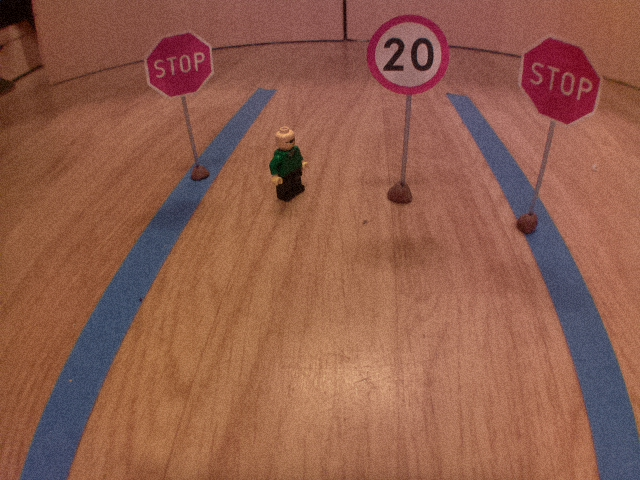LEGO_person: (267, 124, 314, 205)
ogr_20: (362, 11, 453, 98)
stop: (514, 30, 607, 130), (143, 27, 217, 103)
